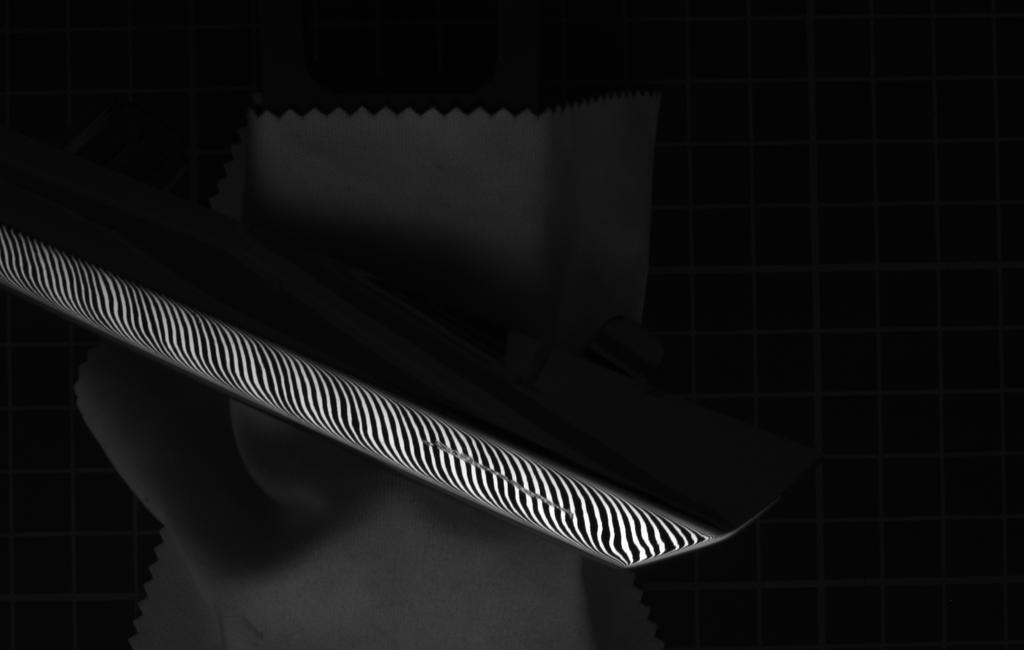Scratch: (420, 434, 587, 521)
